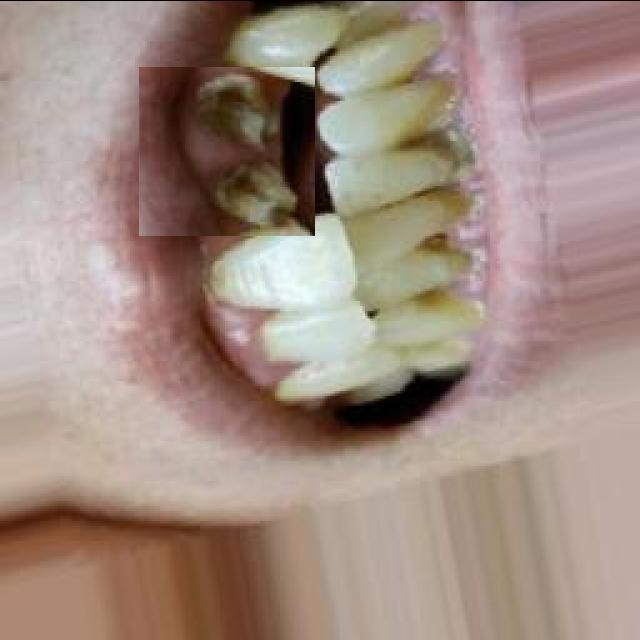decay: (139, 66, 315, 235)
